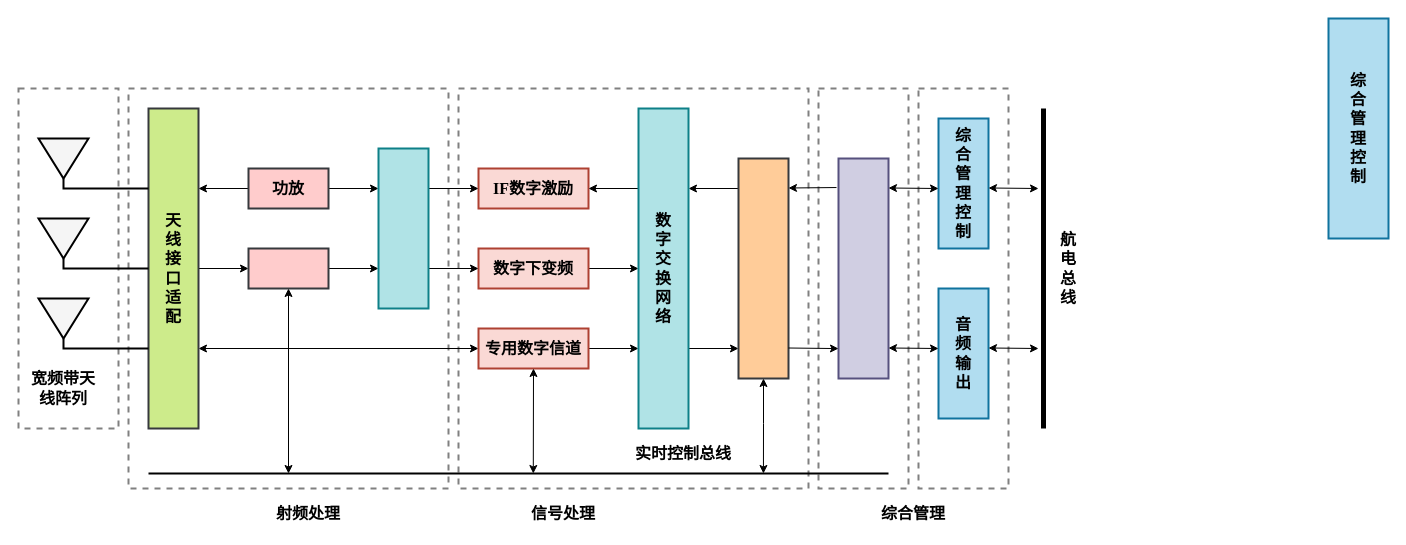
Image size: 1406x545. Some labels were removed from this diagram. The shapes that lost their labels are listed below. From the top down, each one's box as (x1, y1, x2, y2) in pixels, then its label:
(377, 147, 429, 309): 射 频 交 换 网 络
(247, 247, 329, 289): 前置放大
(737, 157, 789, 379): 数 字 中 频 信 号 处 理
(837, 157, 889, 379): 综 合 数 据 处 理
